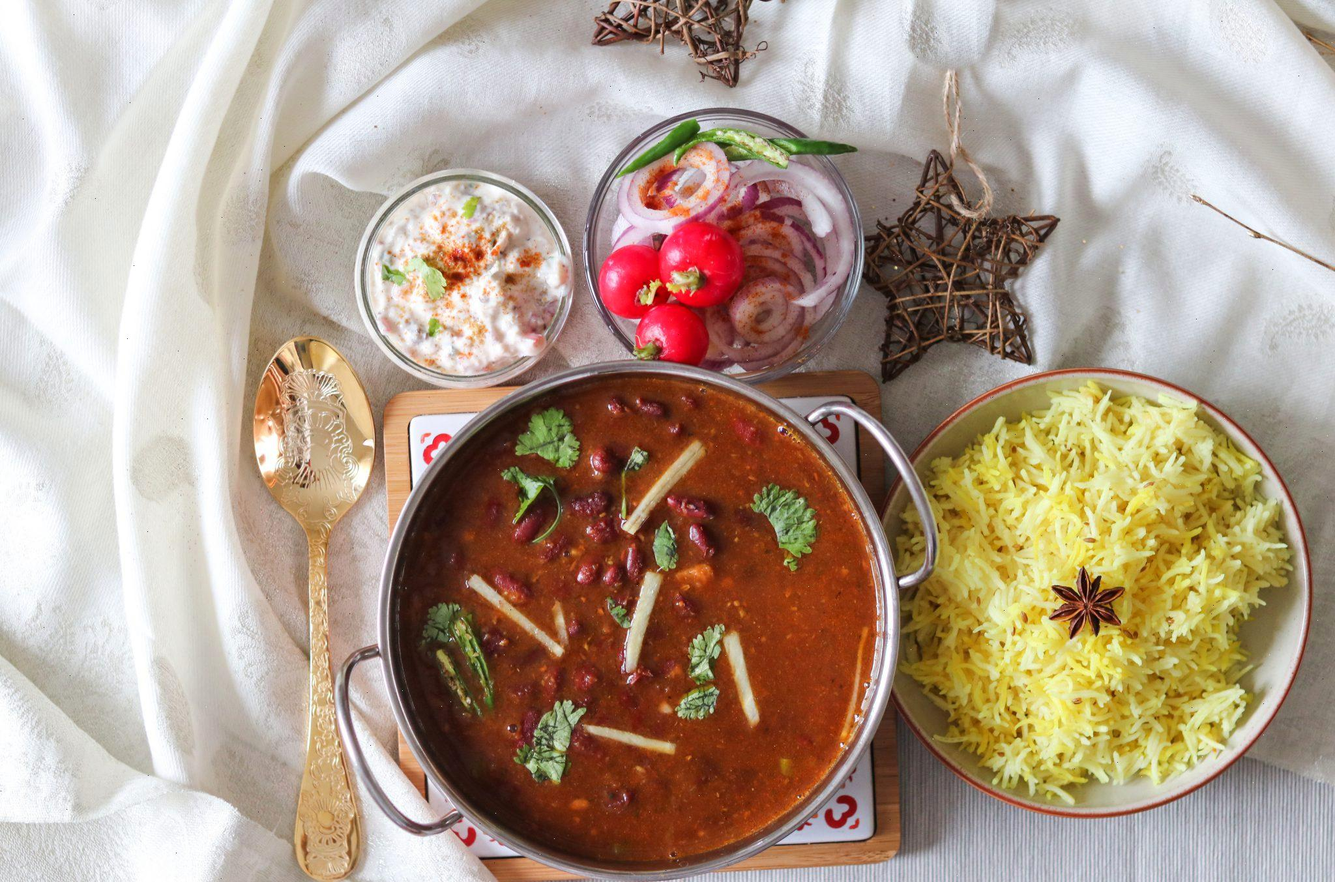rajma: (476, 393, 897, 847)
rice: (943, 498, 1267, 791)
